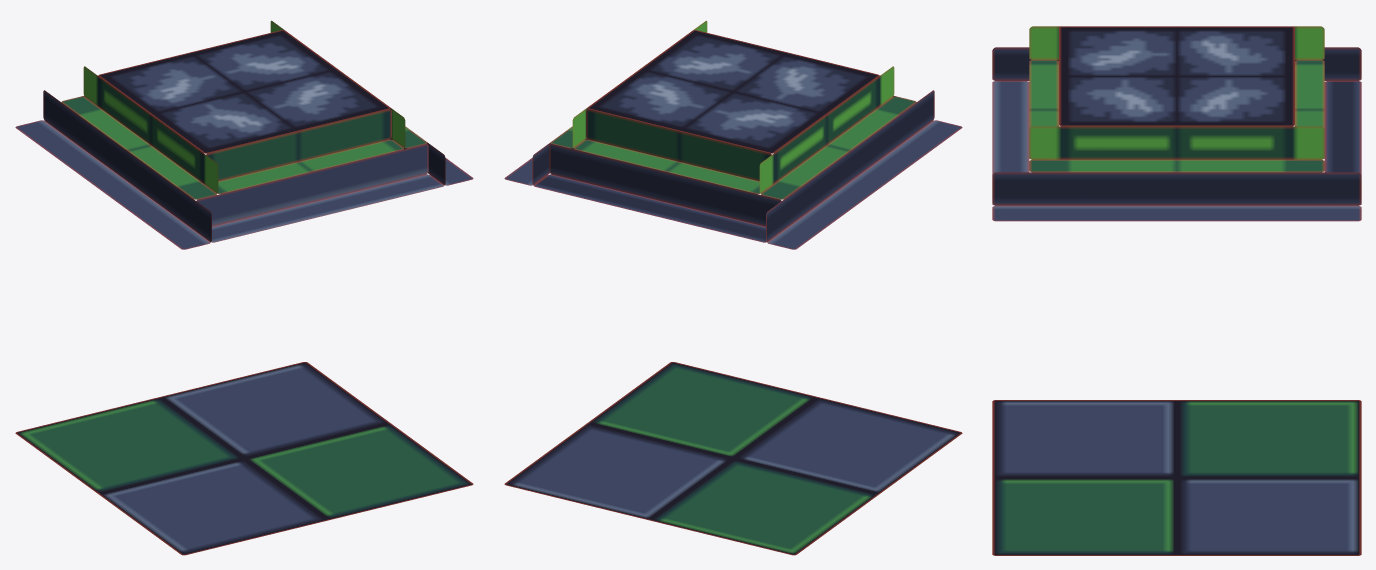
File: FloorRoof1.obj
3 renders of one model, left to right at view 1: azimuth 30°, elevation 25°; view 2: azimuth 150°, elevation 25°; view 3: azimuth 270°, elevation 25°, orthographic. The views are drawn at different scales.
Parts seen in each view (by area): view 1: Roof, Floor; view 2: Roof, Floor; view 3: Roof, Floor.
Boxes of the visible parts, x1,y1,x2,y2 form: Roof: (15, 20, 473, 249); Floor: (15, 362, 473, 555); Roof: (504, 20, 962, 249); Floor: (504, 362, 962, 555); Roof: (992, 26, 1361, 221); Floor: (992, 400, 1361, 555).
Bounding box in the file's own units: 2 × 2.4 × 2.
1 material, 1 textured.
